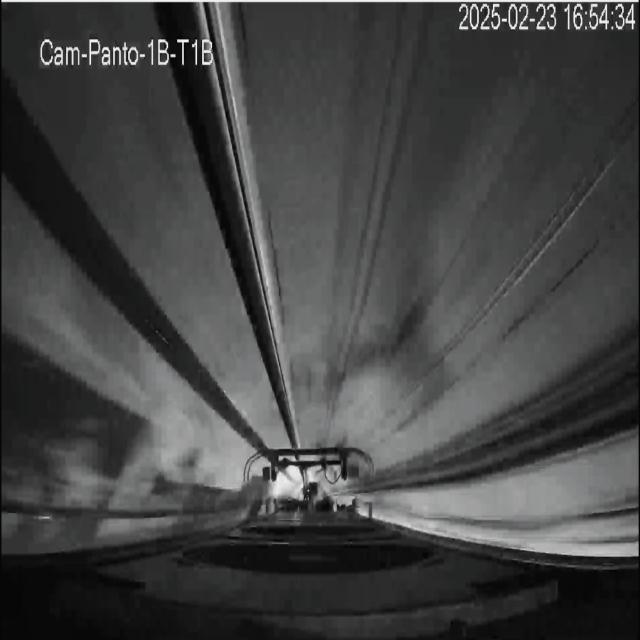Camera Stamp: (41, 34, 219, 69)
Date Stamp: (458, 3, 635, 33)
